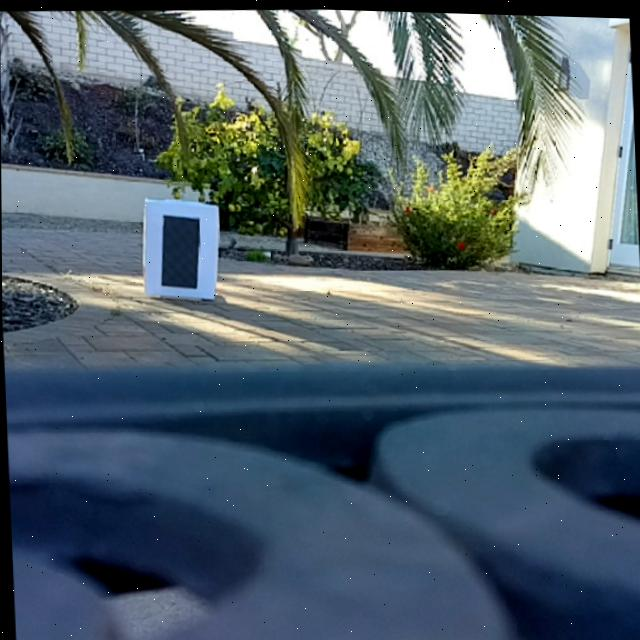led: (156, 211, 203, 291)
